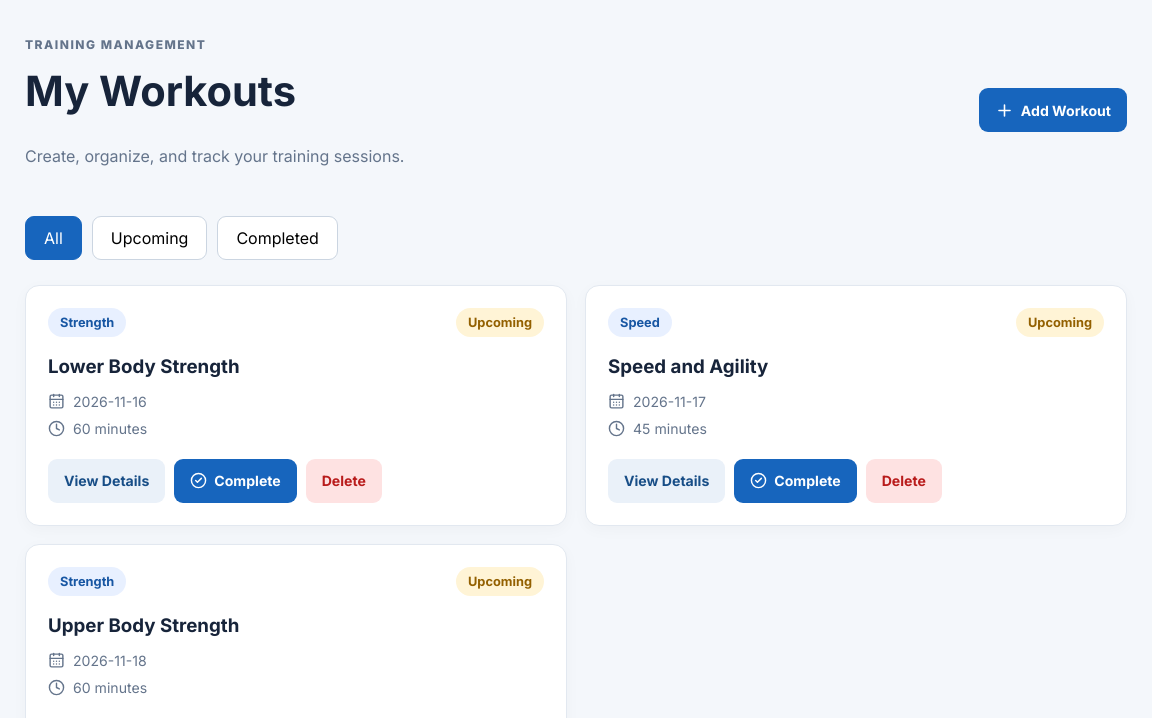
Test: Workouts Page › filters completed workouts
Click the button "Completed" at [278, 238], box x1=217 y1=216 x2=338 y2=260
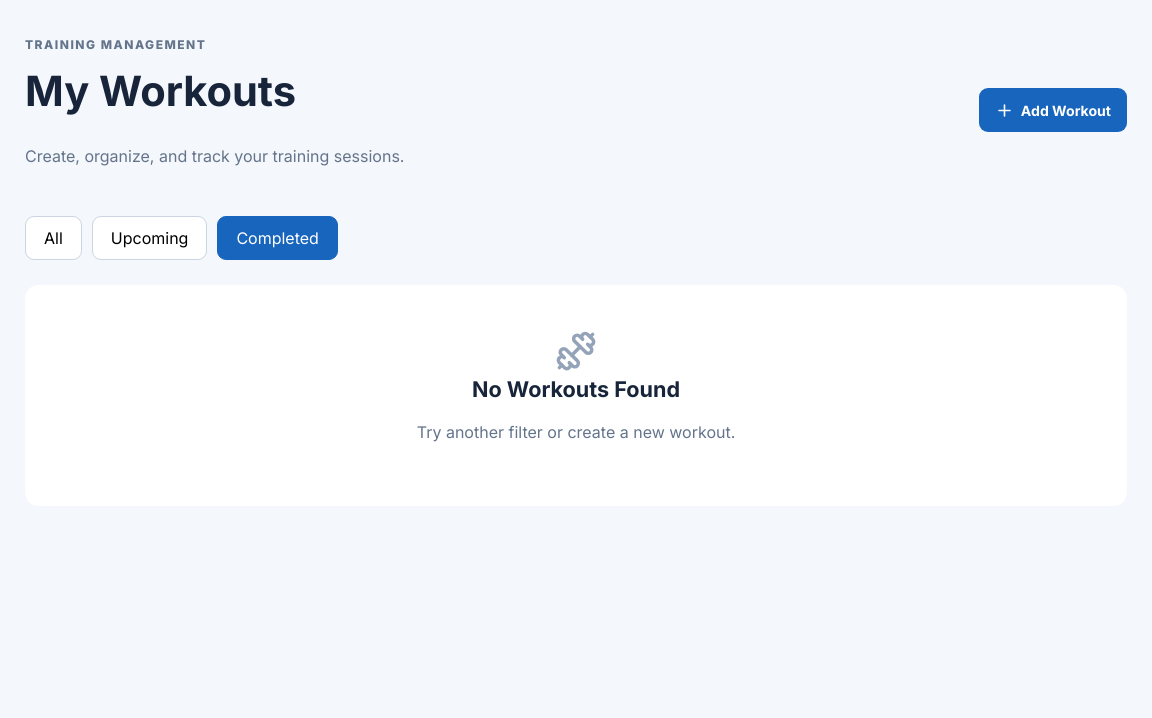
Expected: the heading "No Workouts Found" is shown, x1=472 y1=376 x2=680 y2=402
